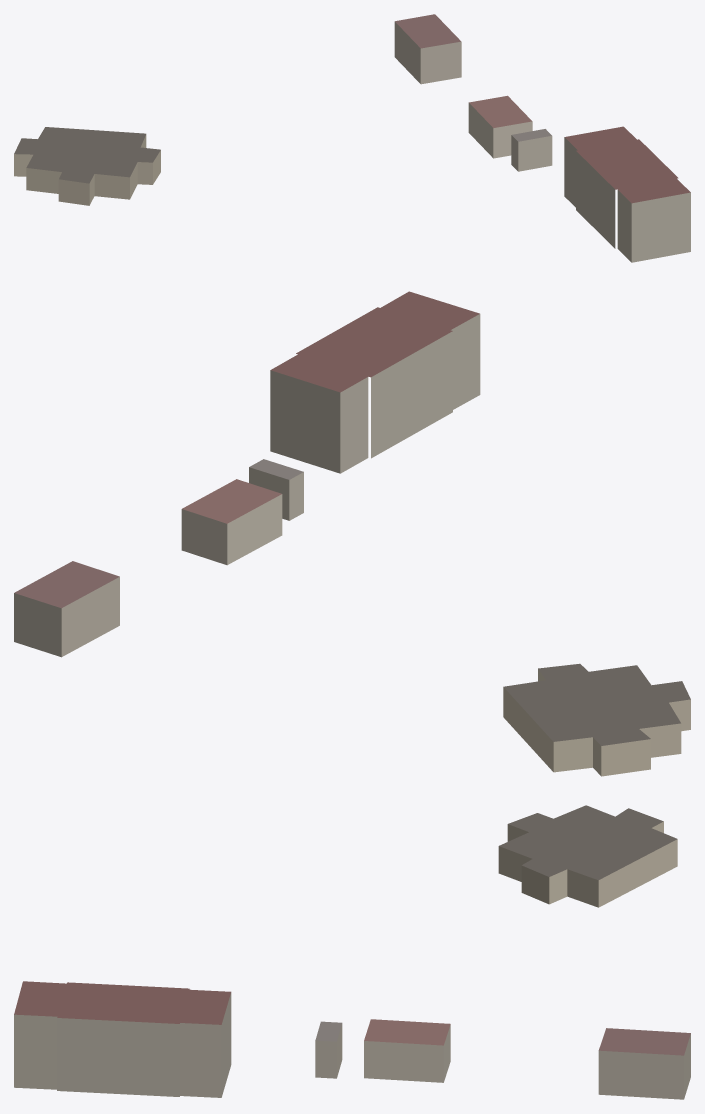
3 renders of one model, top to bottom at view 1: azimuth 30°, elevation 25°; view 2: azimuth 150°, elevation 25°; view 3: azimuth 270°, elevation 25°, orthographic. The views are drawn at different scales.
Parts seen in each view (by area): view 1: tuile; view 2: tuile; view 3: tuile.
Part boxes in pixels (x1,y1,x2,y2): tuile: [14, 14, 690, 262]; tuile: [14, 291, 690, 776]; tuile: [14, 805, 690, 1099].
Size of the model in its own units: 91.8 by 12.25 by 97.5.
